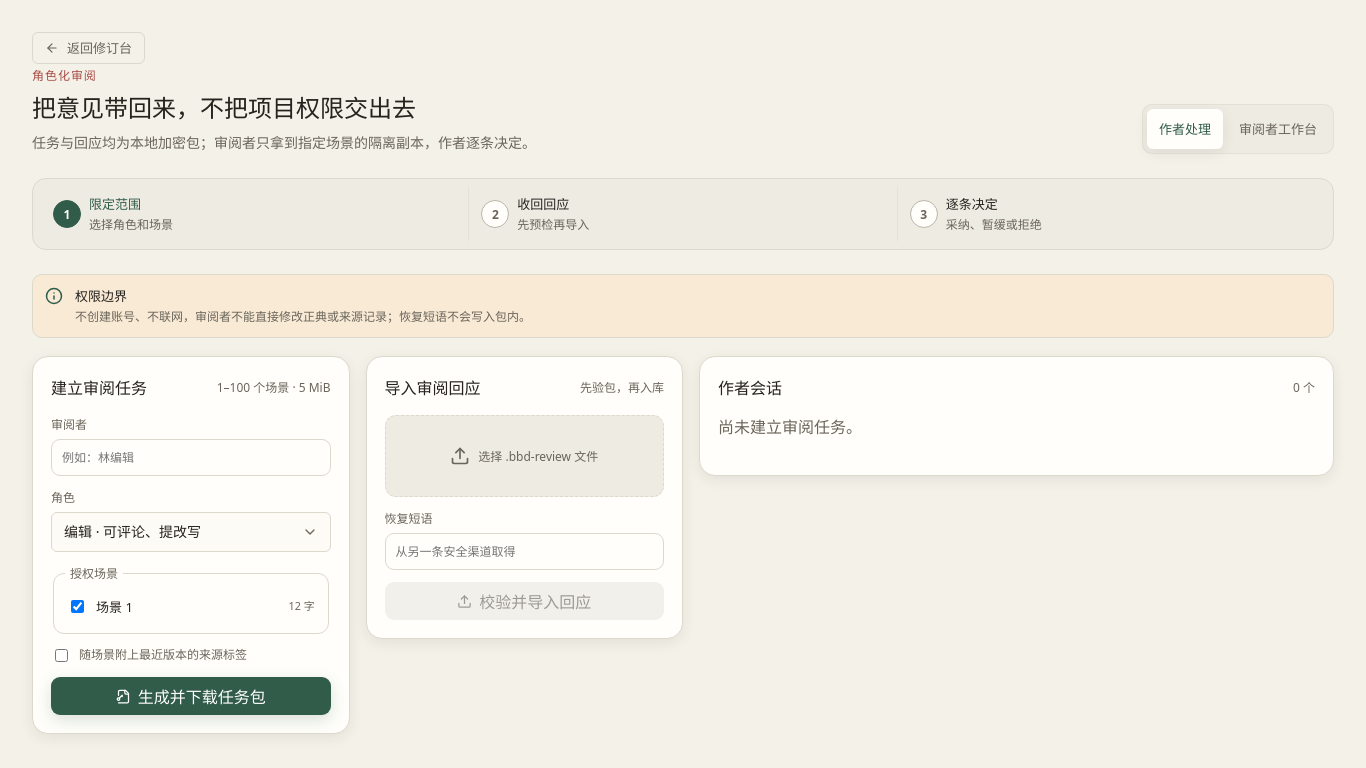
Test case: ReviewWorkspace › creates a scoped assignment and shows its recovery phrase only after creation
Expected: the heading "把意见带回来，不把项目权限交出去" is shown, [32,92,416,124]
Step 1. Type "林编辑" into the field with placeholder "例如：林编辑" → (191, 458), box [51,439,330,476]
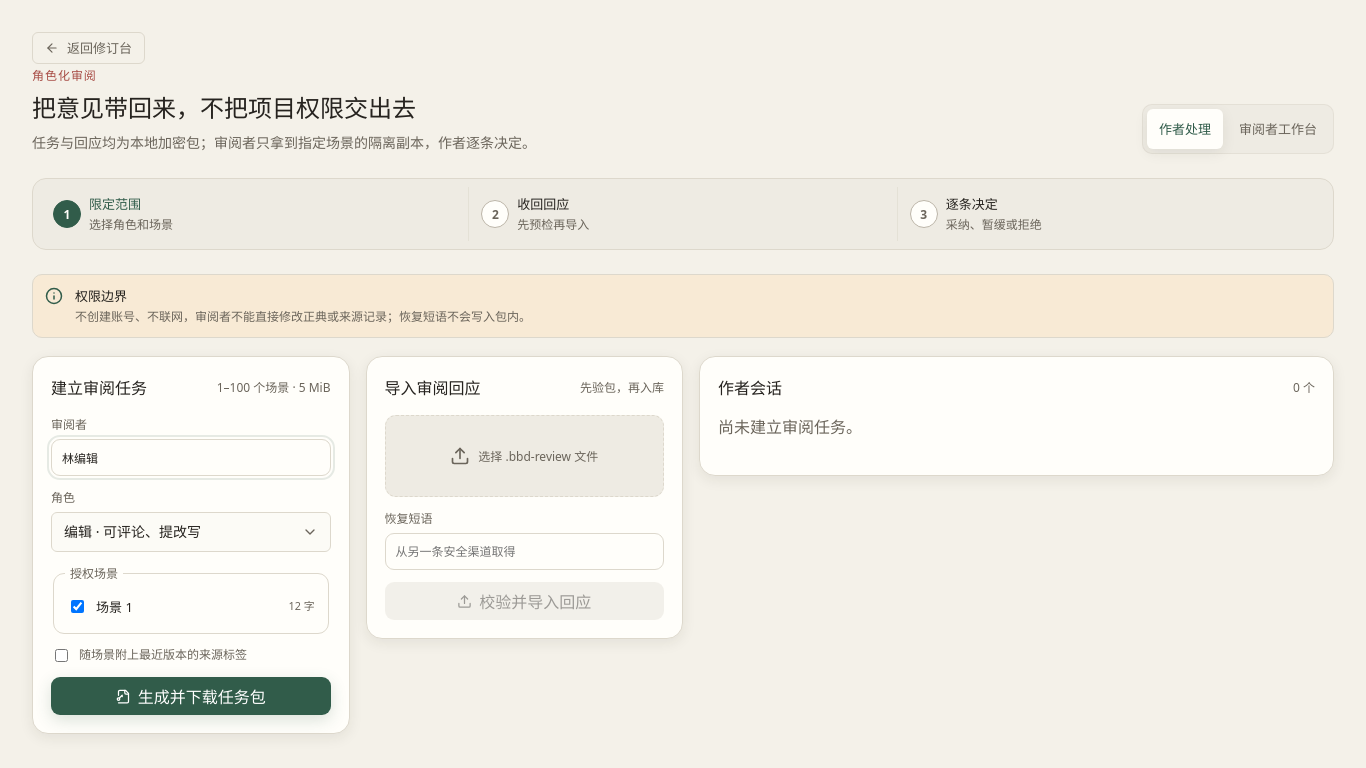
Step 2. Click the button "生成并下载任务包" → (191, 696), box [51,677,330,715]
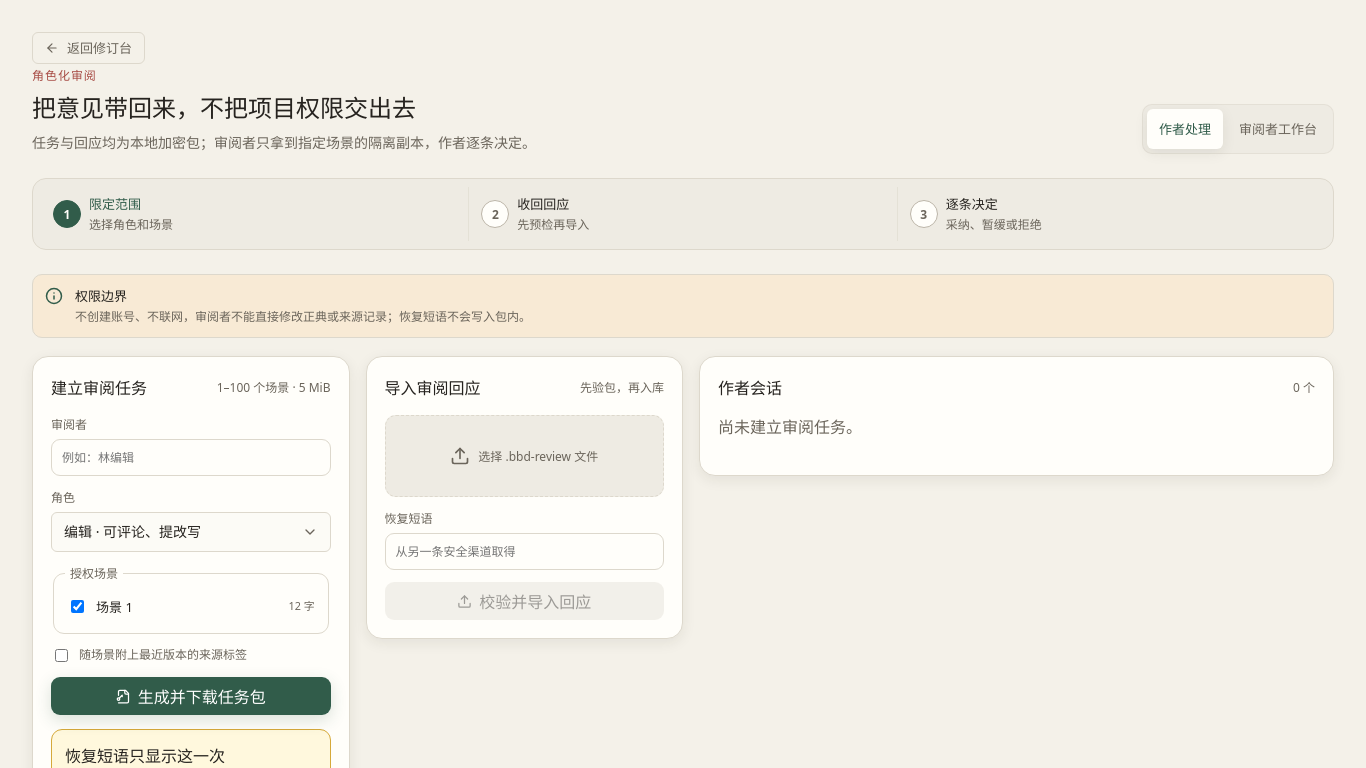
Expected: the text "恢复短语只显示这一次" is shown, [65,745,225,767]
